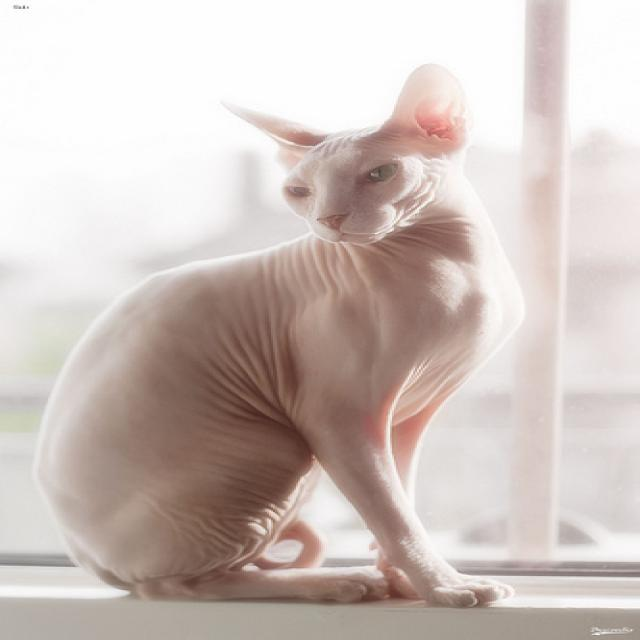Sphynx: (219, 61, 467, 242)
